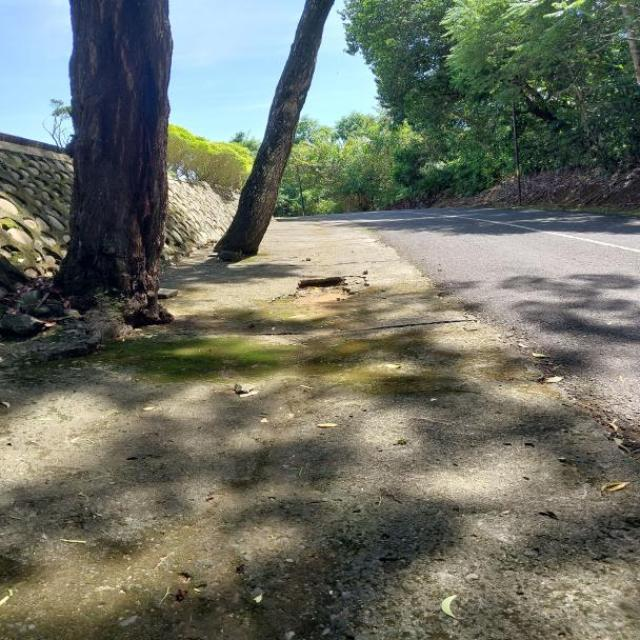tree ahead at: (50, 0, 181, 312)
